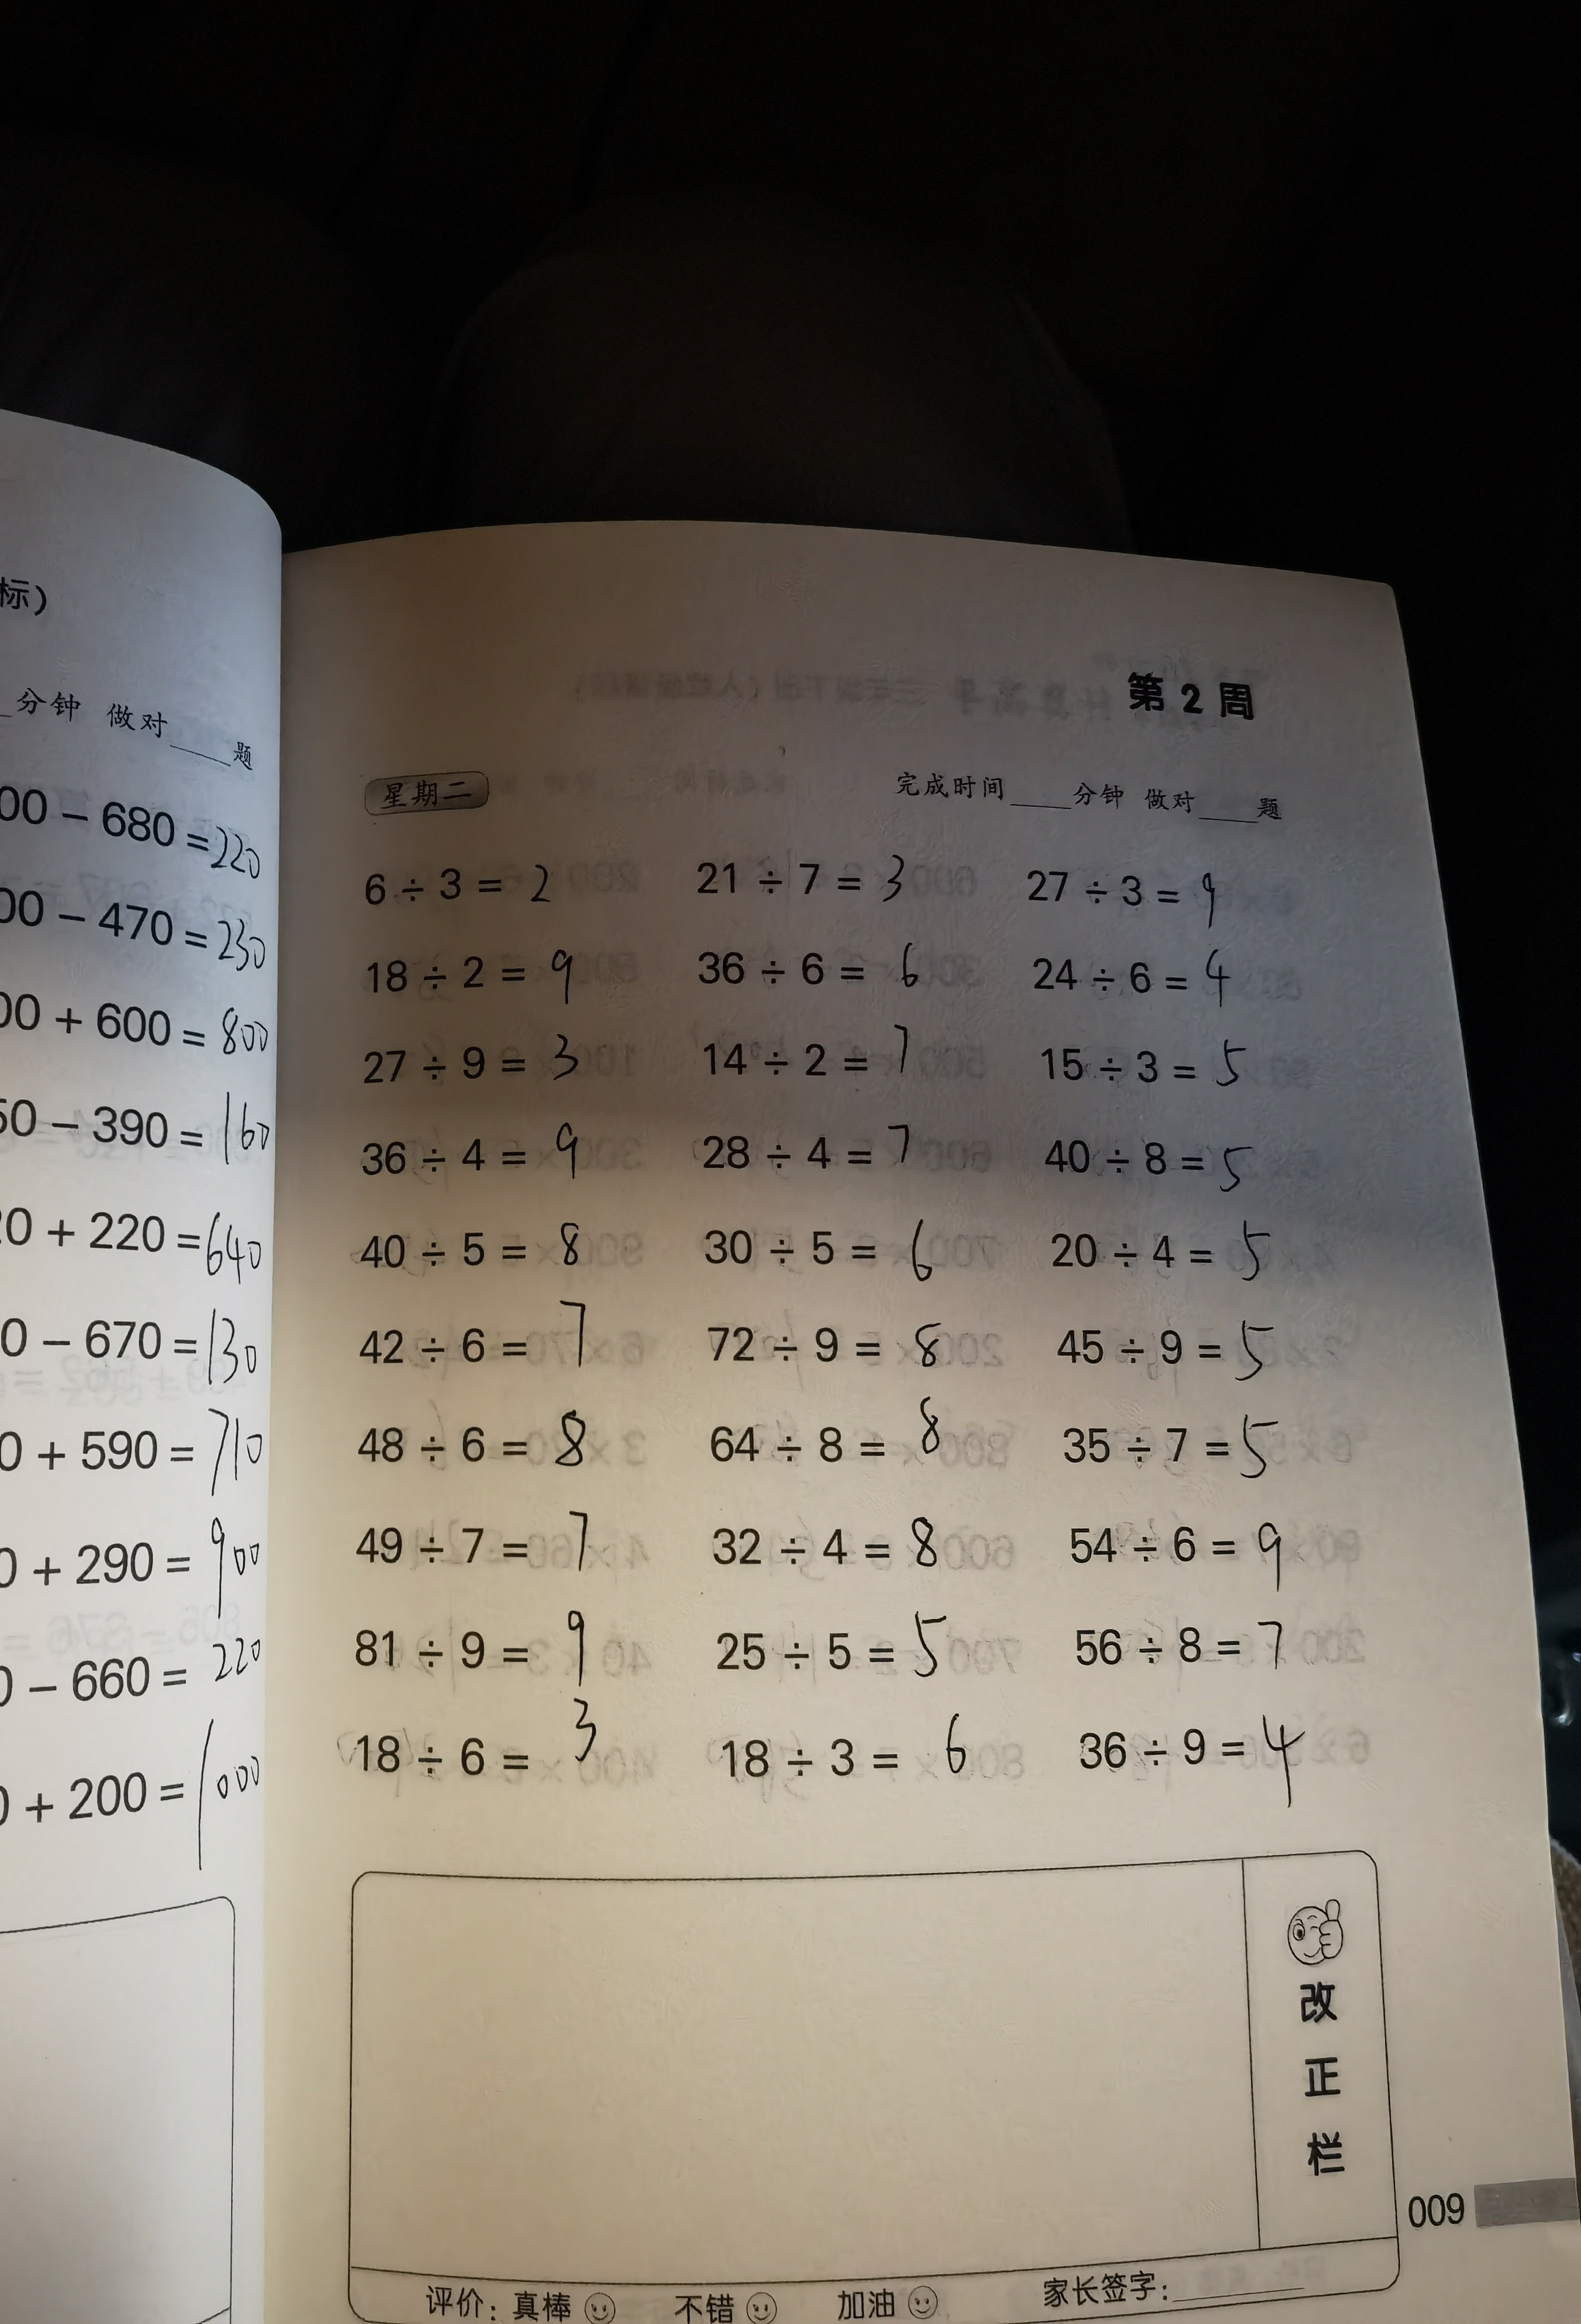equation: (325, 1696, 628, 1810), (711, 1708, 1018, 1810), (330, 1297, 642, 1398), (1043, 1502, 1359, 1601), (346, 1595, 644, 1698), (693, 1604, 986, 1701), (1076, 1710, 1339, 1814), (697, 1301, 1002, 1389), (1039, 1308, 1311, 1406), (695, 1496, 962, 1597), (701, 1392, 1000, 1477), (337, 1401, 621, 1488), (693, 1207, 978, 1290), (686, 824, 933, 919), (348, 1507, 635, 1588), (1039, 1219, 1313, 1304), (344, 939, 605, 1025), (349, 826, 579, 923), (690, 1022, 963, 1103), (1008, 845, 1248, 935), (688, 930, 960, 1009), (1052, 1410, 1330, 1484), (1032, 1029, 1279, 1112), (356, 1119, 612, 1196), (1053, 1615, 1323, 1687), (351, 1029, 618, 1101), (341, 1216, 623, 1283), (1018, 944, 1270, 1018), (1039, 1129, 1292, 1198), (692, 1126, 951, 1184)
